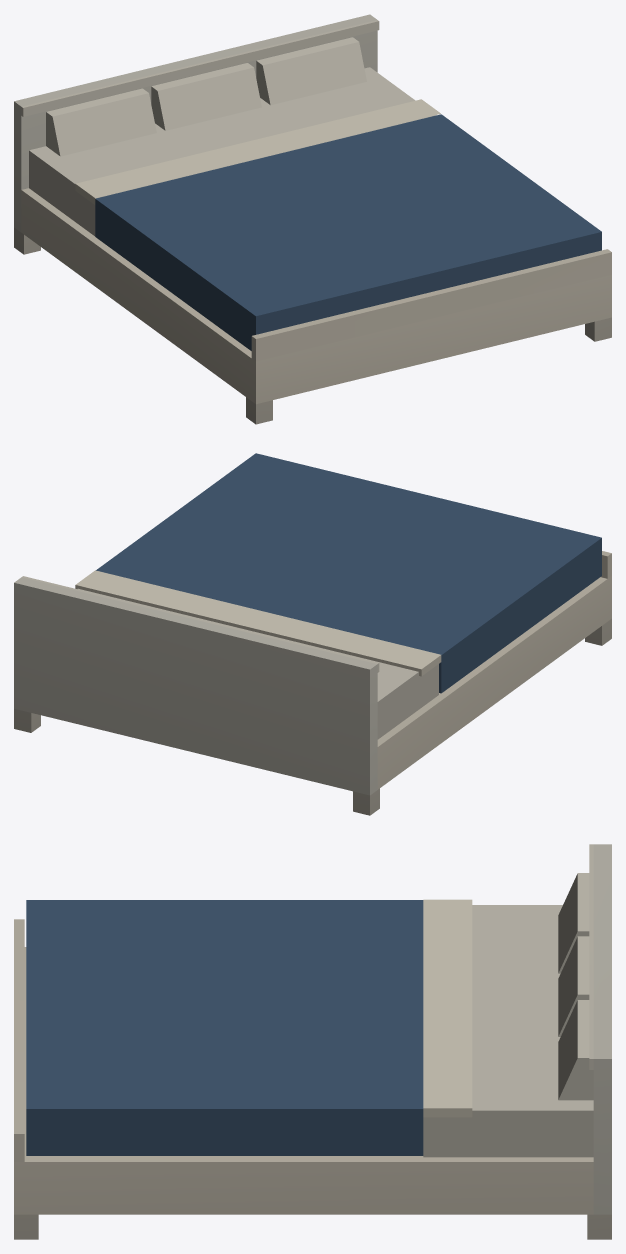
Rendered from bed.double.blue.glb.
The picture shows the model from 3 angles, top to bottom: view 1: azimuth 30°, elevation 25°; view 2: azimuth 150°, elevation 25°; view 3: azimuth 270°, elevation 25°; orthographic projection. The views are drawn at different scales.
Visible parts, largest first — view 1: bed_double_blue; view 2: bed_double_blue; view 3: bed_double_blue.
Boxes of the visible parts, x1,y1,x2,y2 form: bed_double_blue: [14, 14, 611, 424]; bed_double_blue: [14, 453, 611, 815]; bed_double_blue: [14, 844, 611, 1239].
Size of what is drawn, in the model's own units: 1.66 by 0.65 by 1.95.
